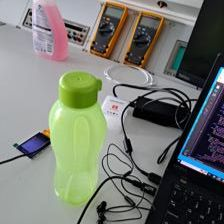bottle: (48, 71, 107, 204)
